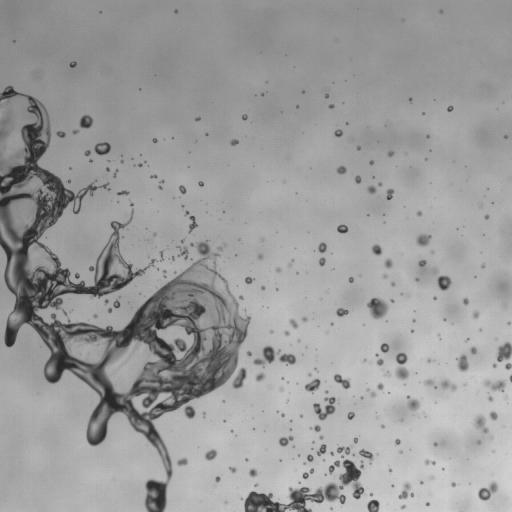droplet: (313, 397, 336, 420), (366, 298, 388, 319), (478, 481, 497, 500), (496, 342, 511, 361), (473, 414, 488, 433), (398, 482, 414, 499), (437, 275, 451, 290), (305, 378, 320, 392), (94, 142, 110, 155), (456, 354, 468, 371), (79, 115, 93, 129), (406, 395, 419, 410), (416, 234, 431, 246), (441, 380, 456, 391), (278, 436, 293, 446), (366, 500, 379, 511), (178, 246, 188, 259), (205, 449, 216, 460), (316, 444, 326, 455), (337, 224, 348, 233), (372, 244, 381, 255), (336, 308, 348, 316), (386, 188, 394, 199), (380, 343, 389, 352), (256, 372, 265, 381), (336, 166, 346, 174), (318, 242, 326, 252), (289, 318, 297, 328), (384, 259, 392, 268), (489, 411, 497, 420), (249, 468, 257, 477), (177, 458, 187, 465), (423, 379, 434, 385), (179, 185, 186, 194), (367, 186, 376, 193), (113, 298, 119, 308), (334, 129, 342, 136), (101, 183, 109, 190), (245, 277, 253, 284), (56, 131, 65, 137), (311, 425, 320, 431), (472, 311, 479, 318), (470, 347, 477, 354), (347, 412, 354, 419), (230, 139, 238, 145), (319, 257, 325, 265), (418, 260, 426, 266), (307, 454, 313, 462), (355, 176, 361, 183), (377, 358, 383, 365), (84, 150, 90, 156), (505, 363, 511, 369), (377, 383, 383, 389), (229, 467, 236, 472), (70, 62, 76, 67), (447, 106, 453, 111), (242, 114, 247, 120), (463, 298, 468, 304), (370, 391, 375, 397), (488, 395, 493, 401), (215, 476, 220, 482), (150, 174, 157, 178), (73, 129, 78, 134), (388, 151, 393, 156), (198, 181, 203, 186), (348, 277, 353, 282), (302, 317, 307, 322), (385, 371, 390, 376), (395, 439, 400, 444), (329, 104, 334, 108), (417, 211, 421, 216), (484, 215, 489, 219), (258, 254, 262, 259), (276, 267, 280, 272), (75, 273, 79, 278), (104, 299, 108, 304), (284, 331, 289, 335), (427, 358, 432, 362), (152, 138, 156, 142), (369, 160, 373, 164), (383, 274, 387, 278), (261, 286, 265, 290), (108, 308, 112, 312), (93, 314, 97, 318), (247, 351, 251, 355), (279, 387, 283, 391), (319, 435, 323, 439), (433, 442, 437, 446), (451, 482, 455, 486), (325, 94, 328, 98), (195, 117, 199, 120), (356, 146, 360, 149), (138, 163, 142, 166), (378, 182, 382, 185), (185, 211, 188, 215), (170, 257, 174, 260), (481, 264, 484, 268), (433, 269, 437, 272), (391, 282, 394, 286), (239, 296, 243, 299), (120, 363, 123, 367), (492, 364, 496, 367), (381, 424, 384, 428), (354, 438, 357, 442), (477, 440, 480, 444), (430, 475, 433, 479), (426, 502, 429, 506), (401, 505, 404, 509), (89, 159, 92, 162), (130, 202, 133, 205), (504, 396, 507, 399), (389, 468, 391, 472), (174, 10, 177, 12), (409, 98, 411, 101), (426, 135, 429, 137), (106, 168, 109, 170), (153, 233, 156, 235), (416, 278, 418, 281), (433, 297, 436, 299), (391, 299, 393, 302), (465, 339, 468, 341), (363, 359, 366, 361), (308, 373, 311, 375), (325, 390, 327, 393), (281, 414, 284, 416), (330, 452, 333, 454), (182, 240, 184, 242), (431, 251, 433, 253), (413, 319, 415, 321), (508, 322, 510, 324), (270, 330, 272, 332), (411, 330, 413, 332), (203, 414, 205, 416), (303, 462, 305, 464), (420, 481, 422, 483), (255, 484, 257, 486), (370, 493, 372, 495)
ligament: (0, 85, 247, 511), (242, 458, 364, 511), (253, 345, 296, 366), (0, 109, 13, 140), (395, 353, 409, 380), (232, 367, 246, 388), (483, 379, 506, 391), (333, 374, 350, 389), (359, 449, 373, 463), (188, 216, 197, 232), (336, 446, 351, 454), (302, 468, 314, 478), (117, 190, 128, 195), (159, 250, 164, 260), (425, 459, 435, 464), (159, 180, 164, 189), (288, 260, 293, 266), (113, 169, 117, 176), (163, 270, 166, 276), (509, 375, 511, 381)
